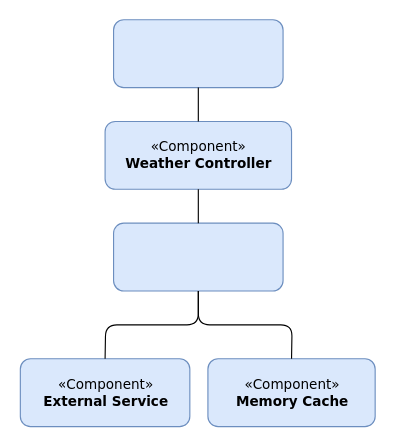
The diagram is 394 pixels wide and 446 high, and some of its shapes have lost their labels. The centre of each missing label's shape, as x and y in pixels:
"«Component» Weather Service" goes at point (197, 256).
"«Component» Web Application" goes at point (197, 53).
